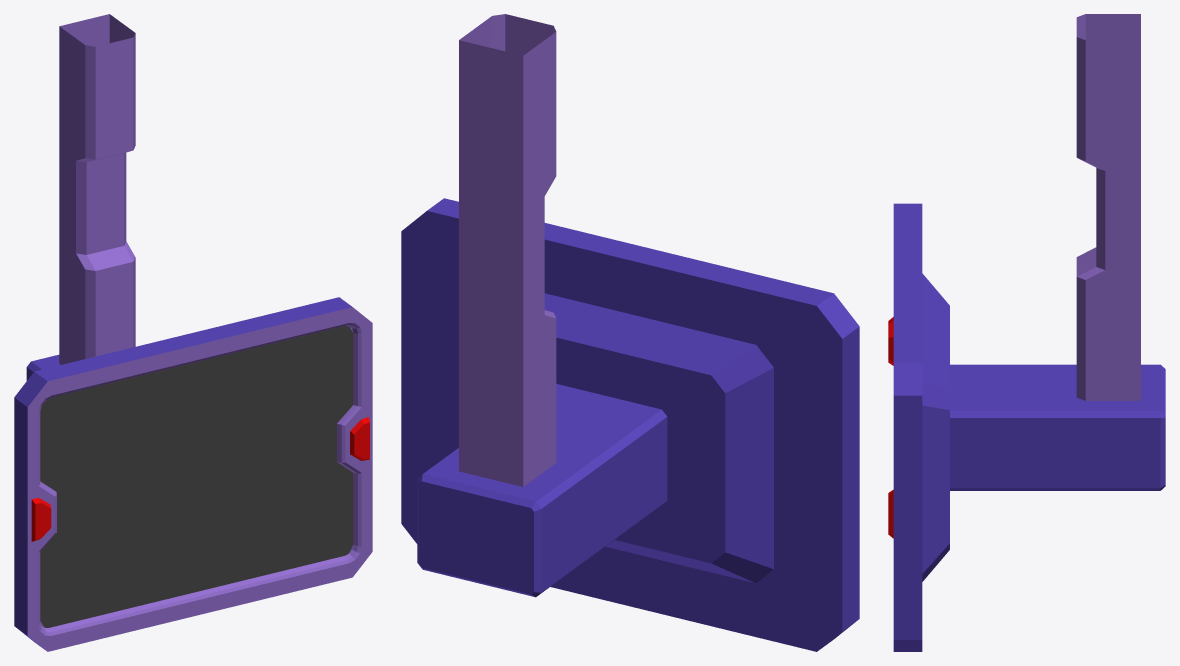
Rendered from Tv_Screen.fbx.
3 renders of one model, left to right at view 1: azimuth 30°, elevation 25°; view 2: azimuth 150°, elevation 25°; view 3: azimuth 270°, elevation 25°, orthographic. The views are drawn at different scales.
Parts seen in each view (by area): view 1: Tv_Screen; view 2: Tv_Screen; view 3: Tv_Screen.
Boxes of the visible parts, <box> form: Tv_Screen: <box>14,14,372,651</box>; Tv_Screen: <box>401,14,859,651</box>; Tv_Screen: <box>888,14,1165,651</box>.
Bounding box in the file's own units: 3.18 × 4.48 × 2.07.
